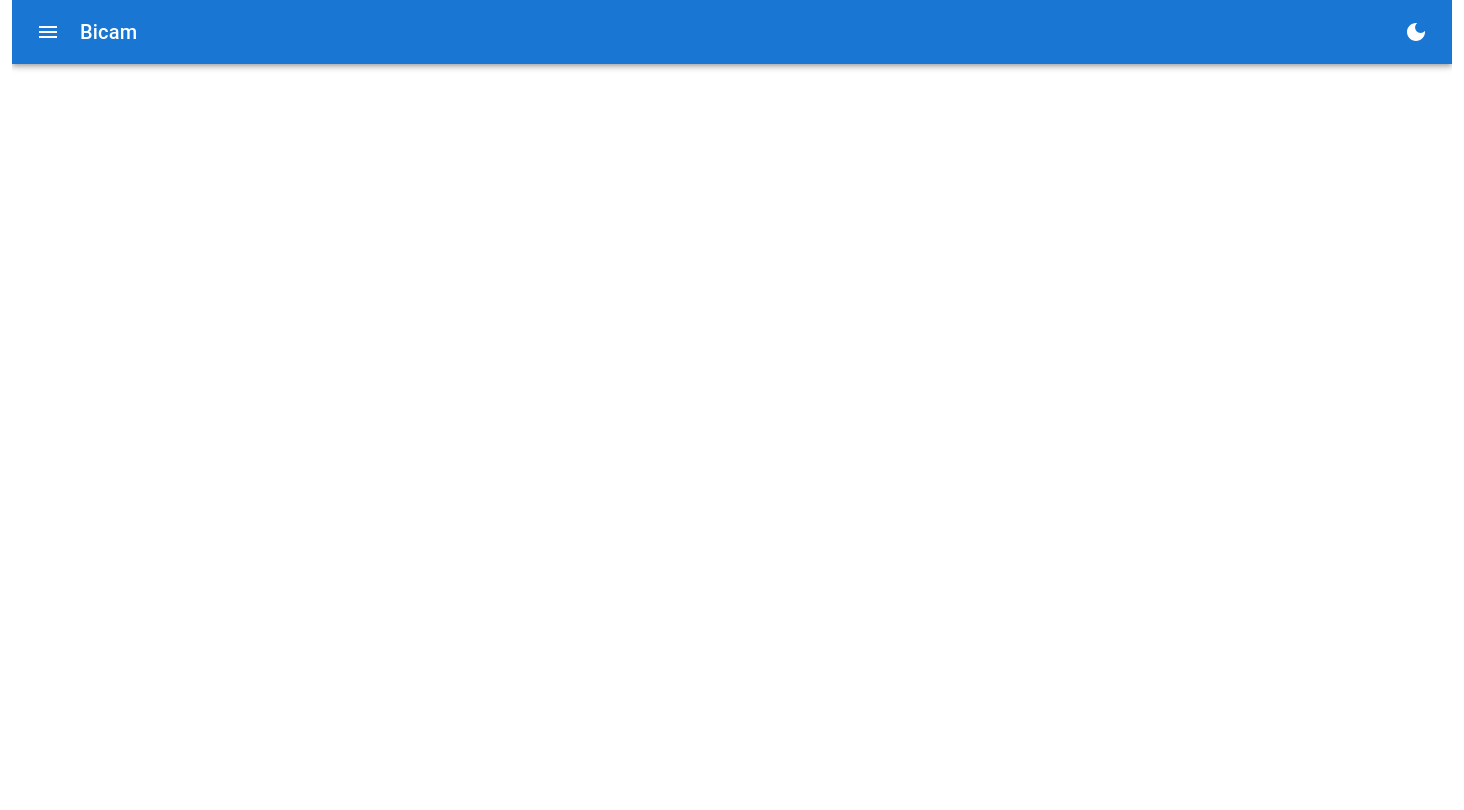
Test: App › opens the menu from the header and closes it with the X button
The width and height of the screenshot is (1464, 810).
Click the button named "Open menu": (48, 32) [24,8,72,56]
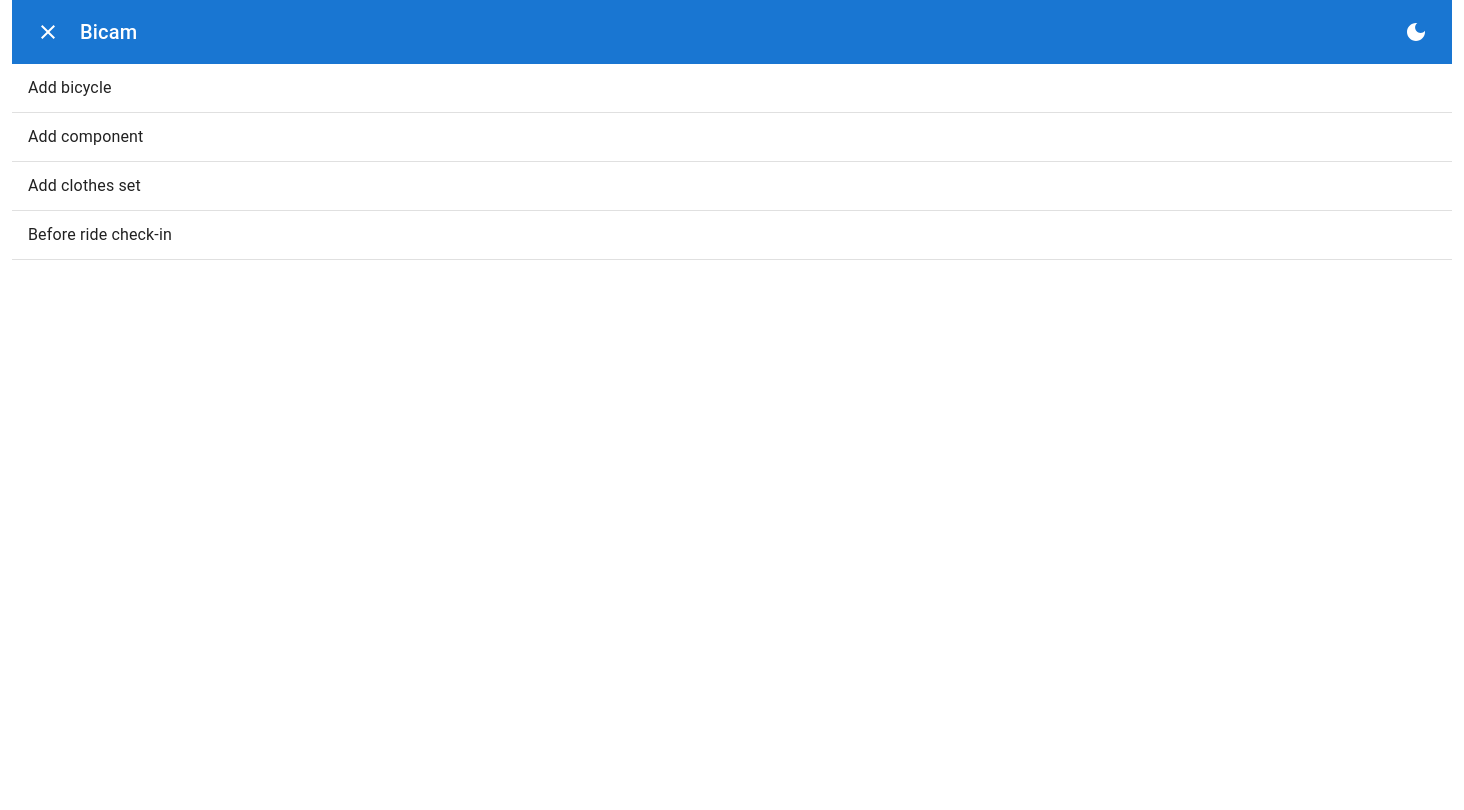
Expected: the button named "Close menu" is expanded
Expected: the icon with test id "CloseIcon" is shown, [36,20,60,44]
Expected: the navigation bar named "Main menu" is shown
Click the button named "Close menu": (48, 32) [24,8,72,56]
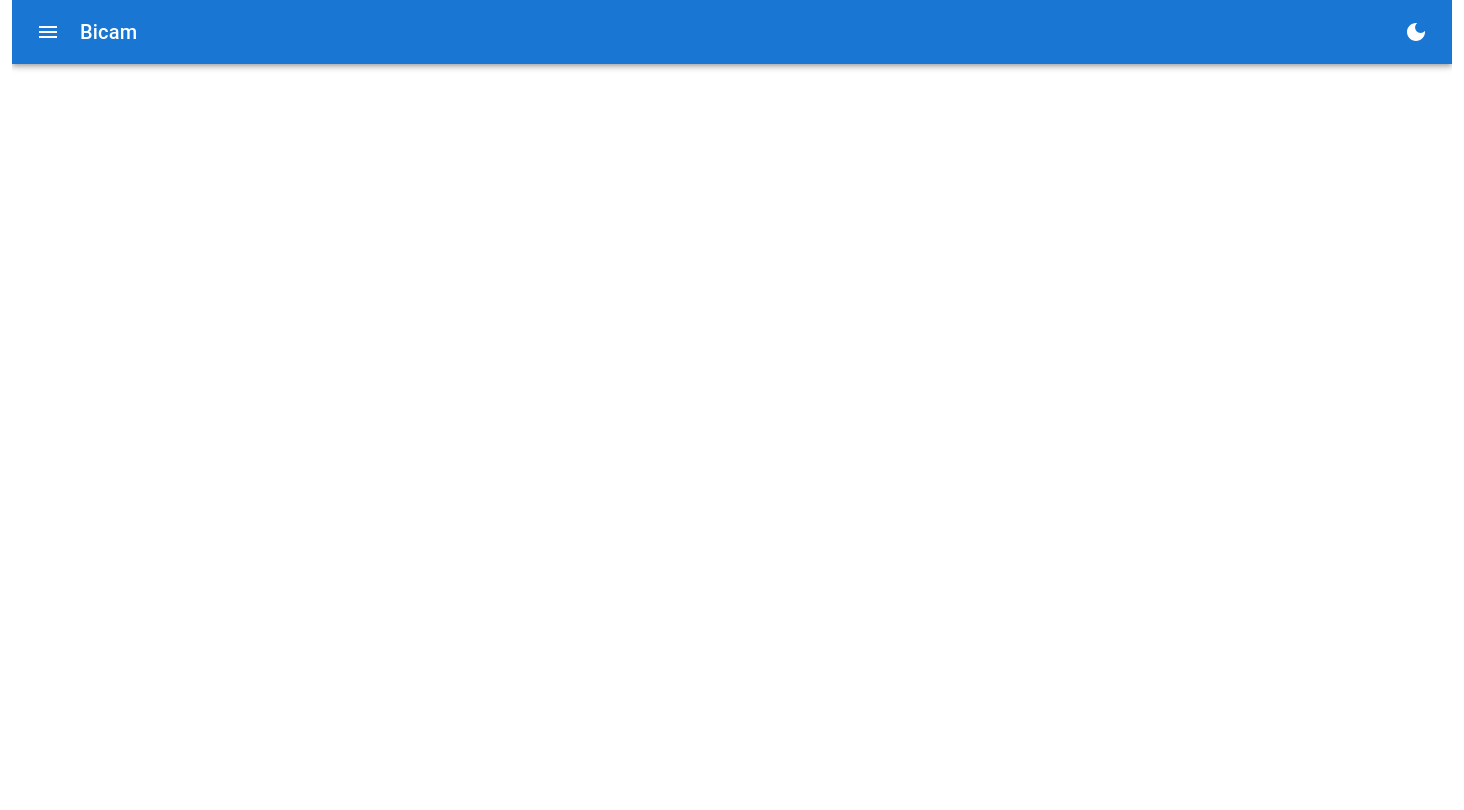
Expected: the navigation bar is gone
